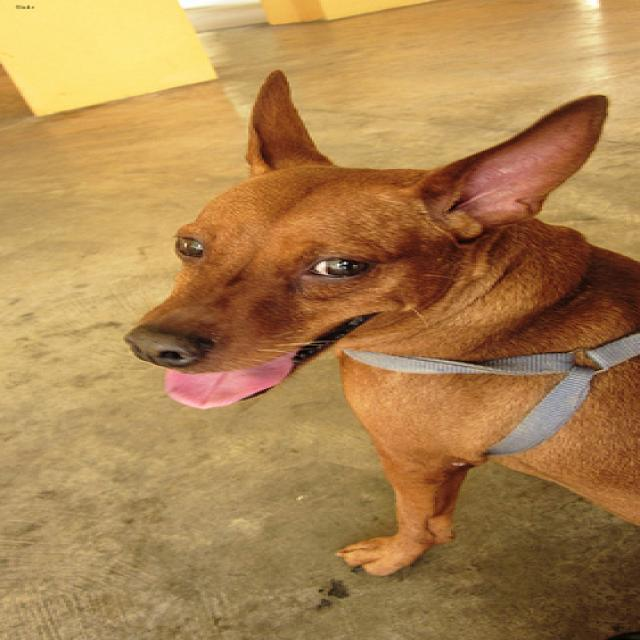dog-miniature_pinscher: (98, 64, 635, 584)
